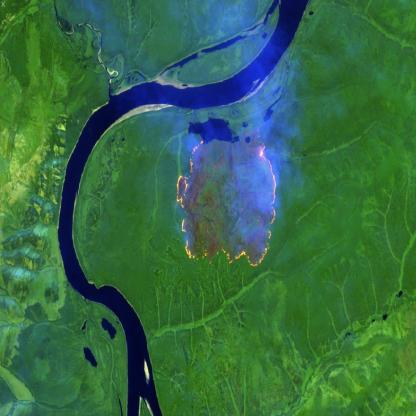fire: (172, 128, 283, 267)
